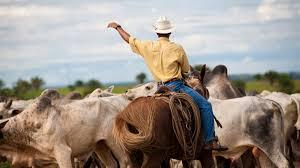cow: (124, 80, 286, 168), (0, 94, 133, 168), (256, 89, 300, 168), (0, 96, 22, 120)
